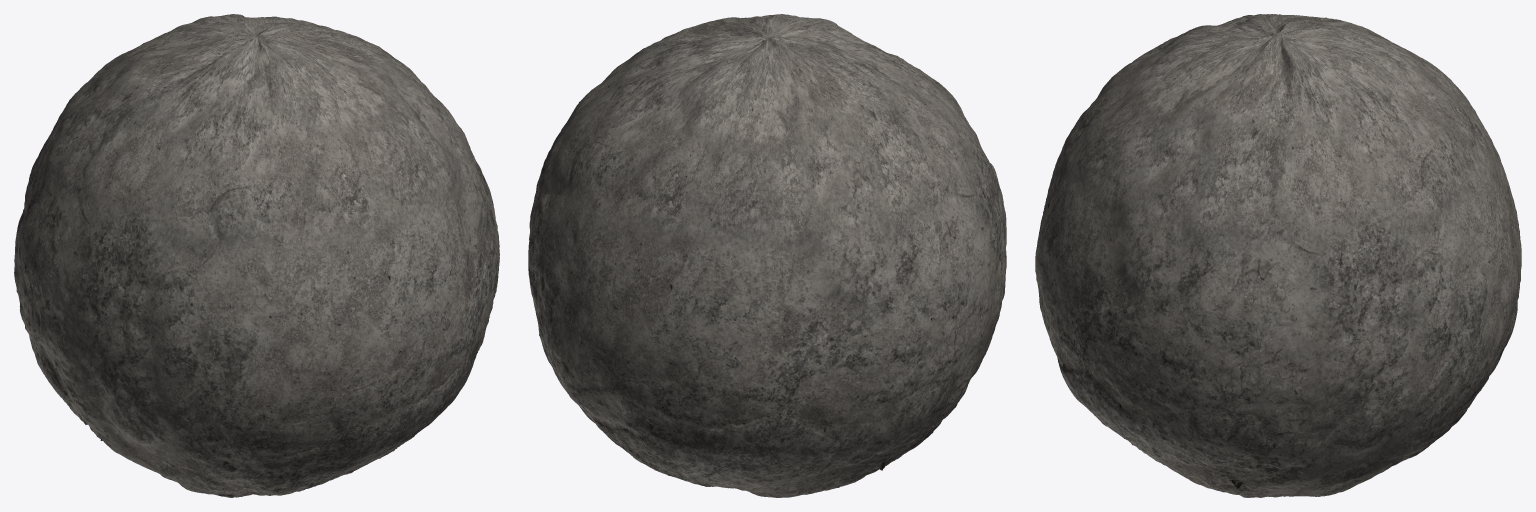
Rendered from rock_08_2k.gltf.
3 views of the same model, side by side, from view 1: azimuth 30°, elevation 25°; view 2: azimuth 150°, elevation 25°; view 3: azimuth 270°, elevation 25° (orthographic).
Visible parts, largest first — view 1: sphere_gltf; view 2: sphere_gltf; view 3: sphere_gltf.
Part boxes in pixels (box(x1,y1,x2,y2)): sphere_gltf: box(14, 14, 499, 497); sphere_gltf: box(528, 14, 1006, 497); sphere_gltf: box(1035, 14, 1521, 497).
Bounding box in the file's own units: 1.51 × 1.52 × 1.51.
Materials: 1 (1 with a texture image).
